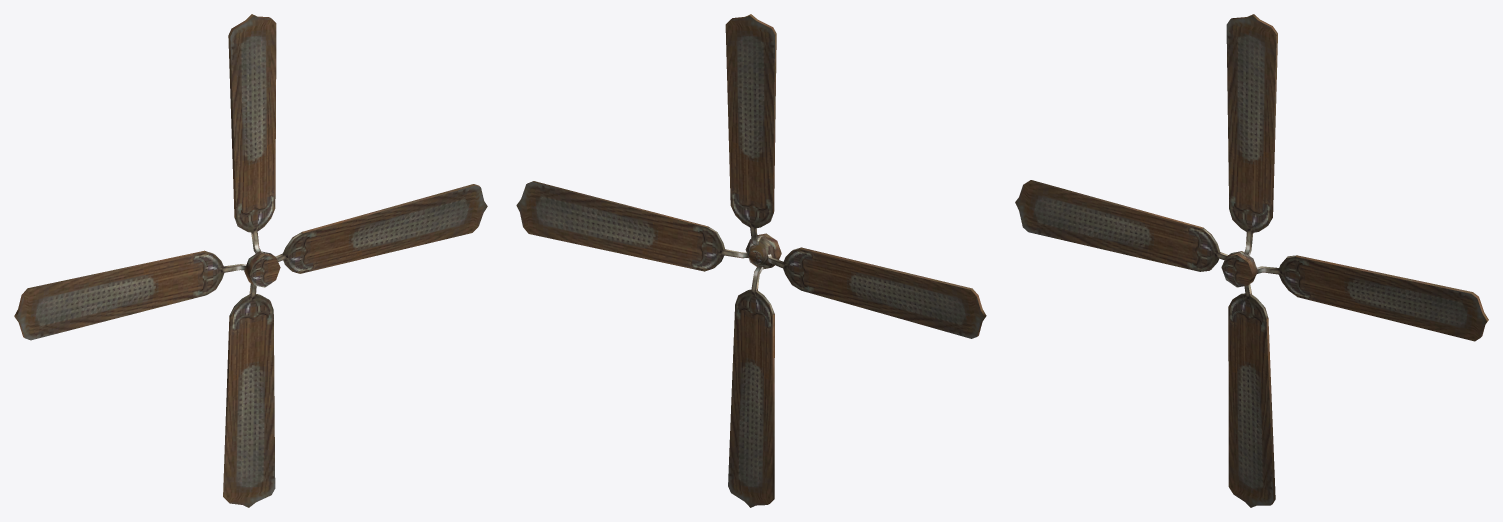
The model's file is veniltador.obj.
3 renders of one model, left to right at view 1: azimuth 30°, elevation 25°; view 2: azimuth 150°, elevation 25°; view 3: azimuth 330°, elevation 25°, orthographic.
Parts seen in each view (by area): view 1: main; view 2: main; view 3: main.
Part boxes in pixels (x1,y1,x2,y2): main: (14,14,487,507); main: (516,14,986,507); main: (1015,14,1488,507).
Size of the model in its own units: 1.99 by 1.99 by 0.1309.
Materials: 1 (1 with a texture image).
